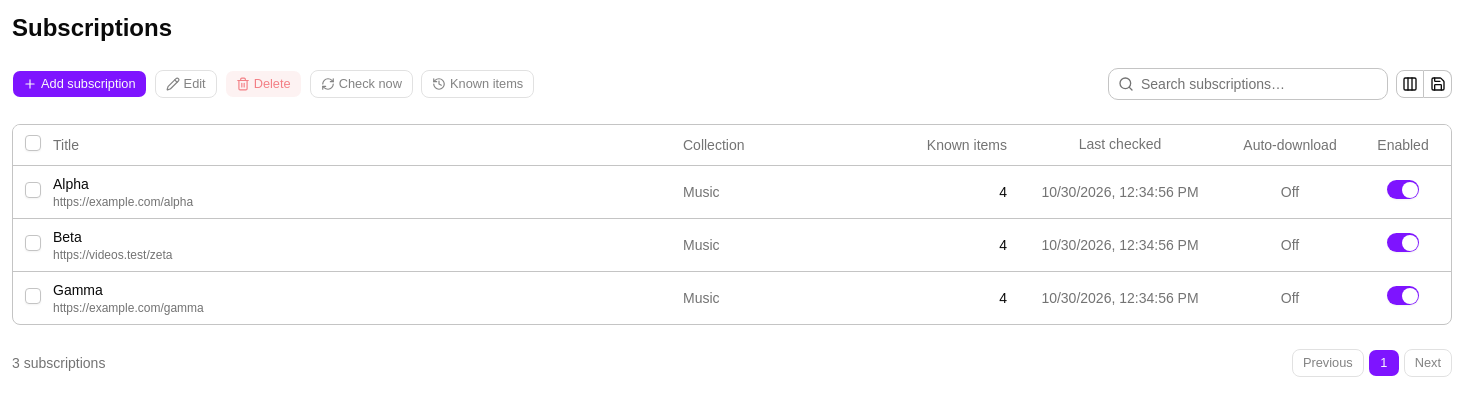
SubscriptionsPage table › searches by title and by url, case-insensitively
Expected: the text "Alpha" is shown, [53, 176, 89, 192]
Type "ALP" into the field with placeholder "Search subscriptions…". click: [1248, 84]
box: [1108, 68, 1388, 100]
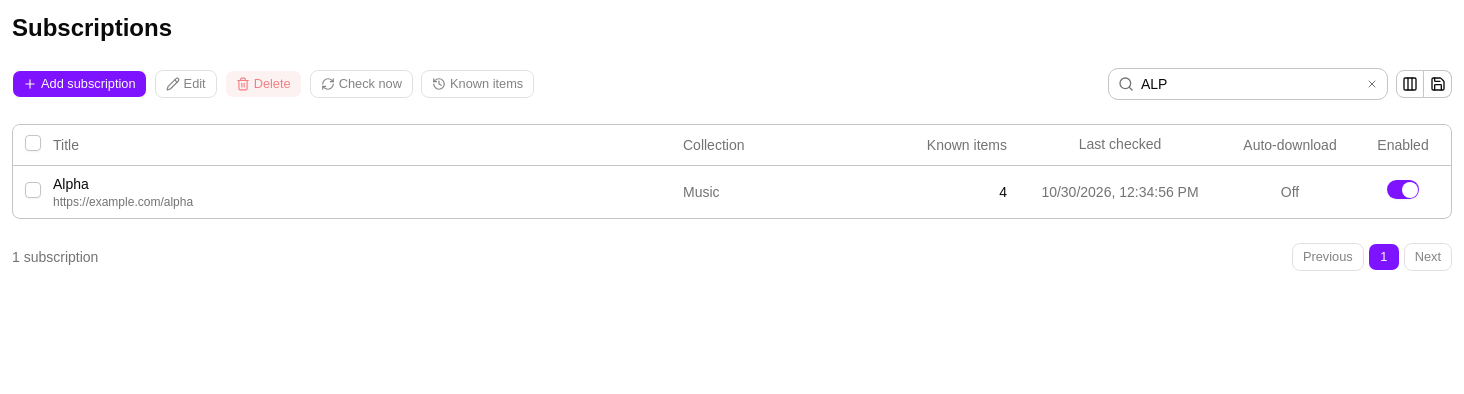
Expected: the text "Alpha" is shown, [53, 176, 89, 192]
Result: the text "Beta" is gone
Result: the text "1 subscription" is shown at [12, 246, 98, 266]
Replace the text in the field with placeholder "Search subscriptions…" with "VIDEOS.test". click: [1248, 84]
box: [1108, 68, 1388, 100]
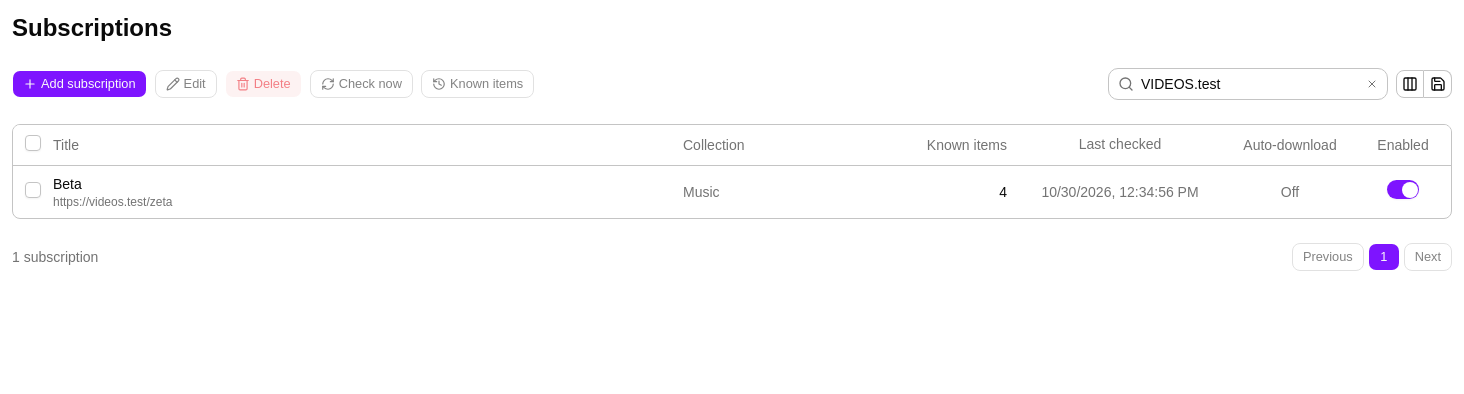
Result: the text "Beta" is shown at [53, 176, 82, 192]
Result: the text "Alpha" is gone
